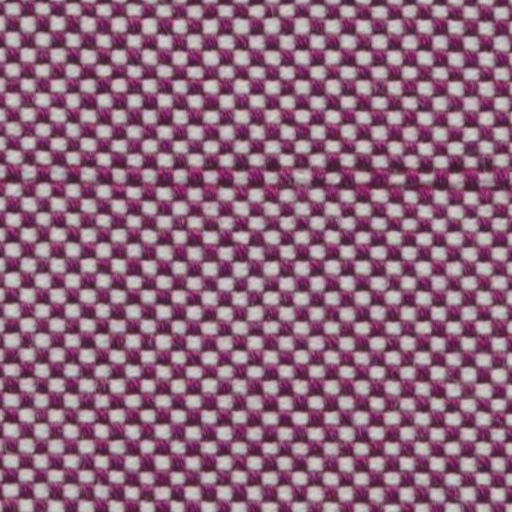TuoSha: (10, 140, 496, 214)
